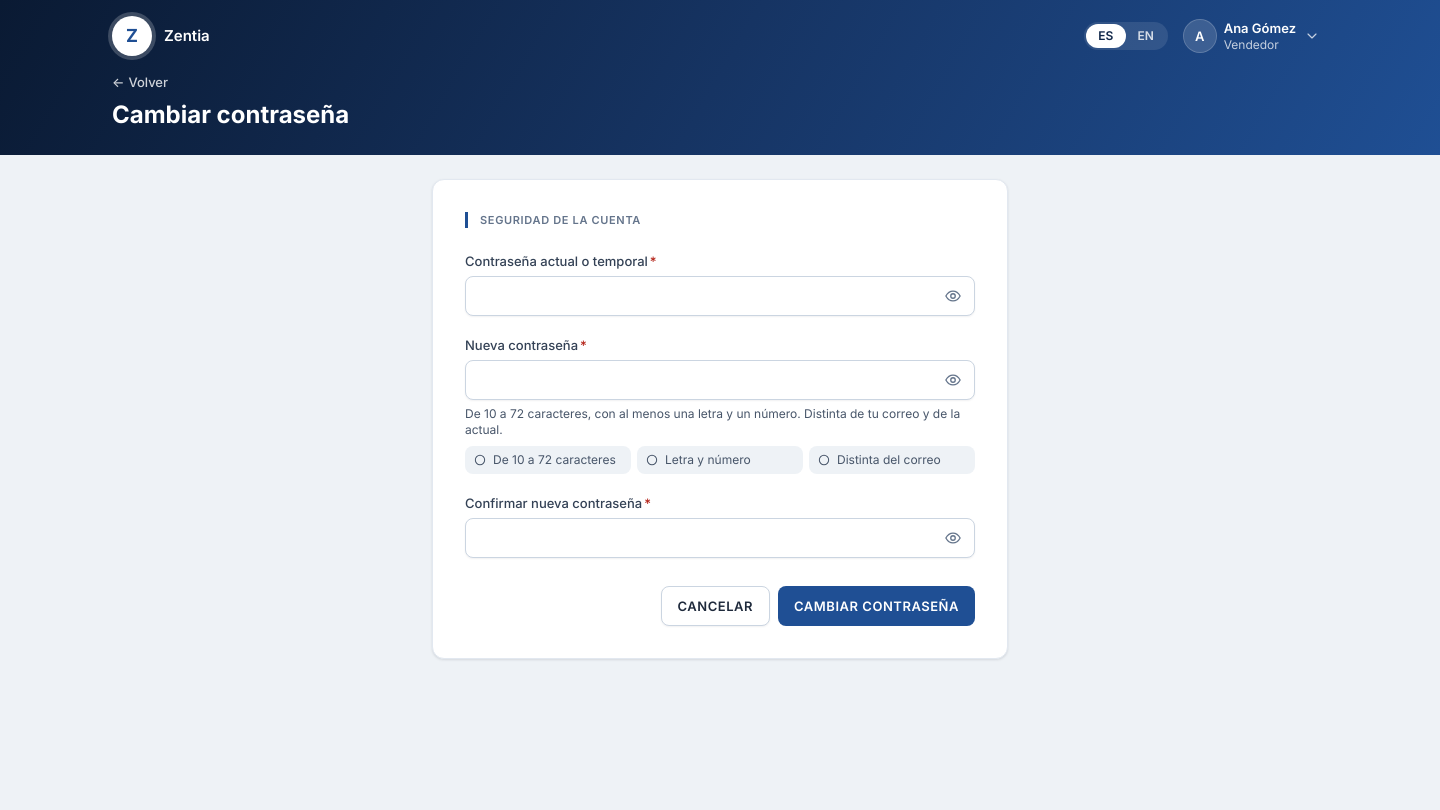
Test case: ChangePasswordPage › validates the policy and the confirmation locally
Type "actual2026x" into the password field labelled "Contraseña actual o temporal*" at (720, 296), box [465,276,975,316]
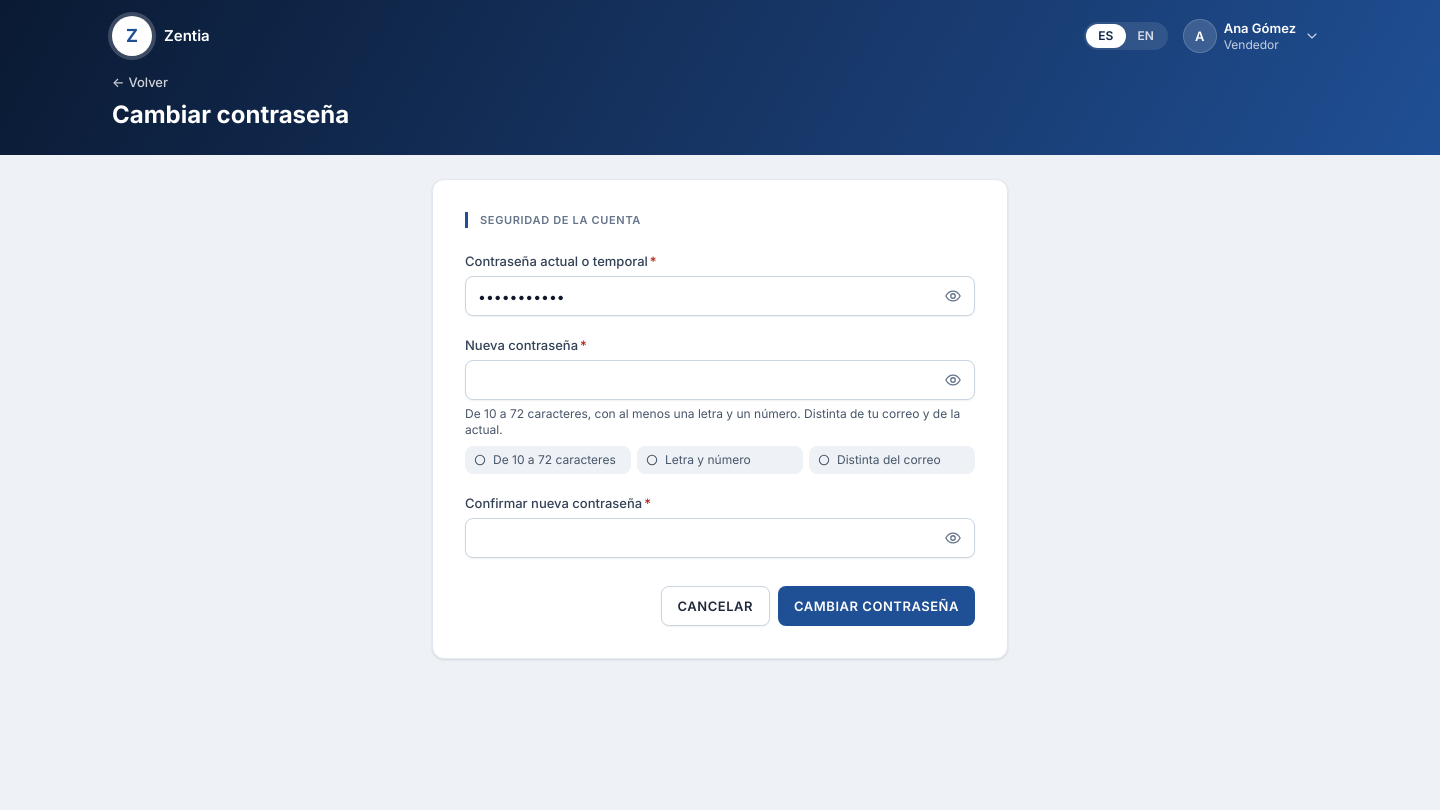
Type "corta" into the password field labelled "Nueva contraseña*" at (720, 380), box [465,360,975,400]
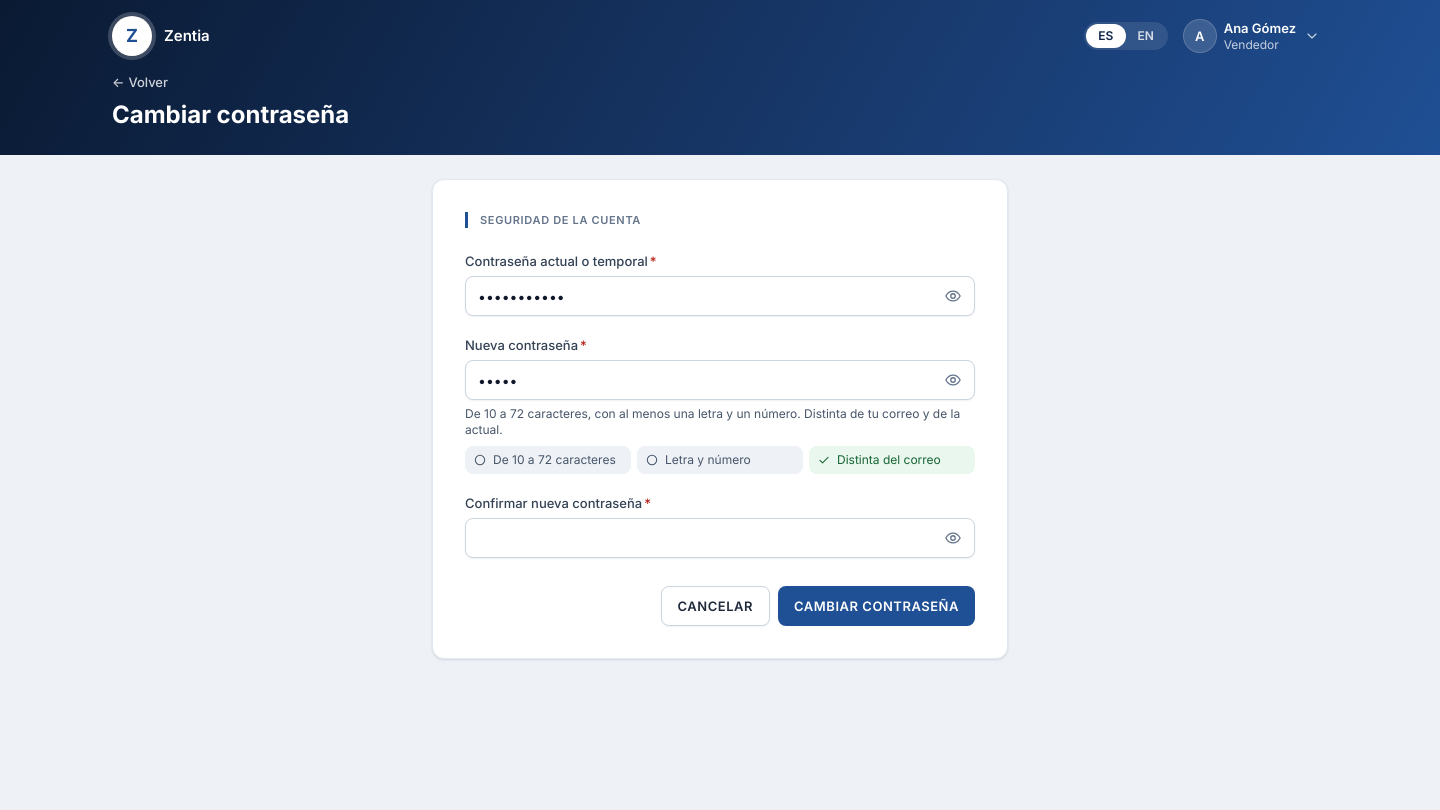
Type "otra" into the password field labelled "Confirmar nueva contraseña*" at (720, 538), box [465,518,975,558]
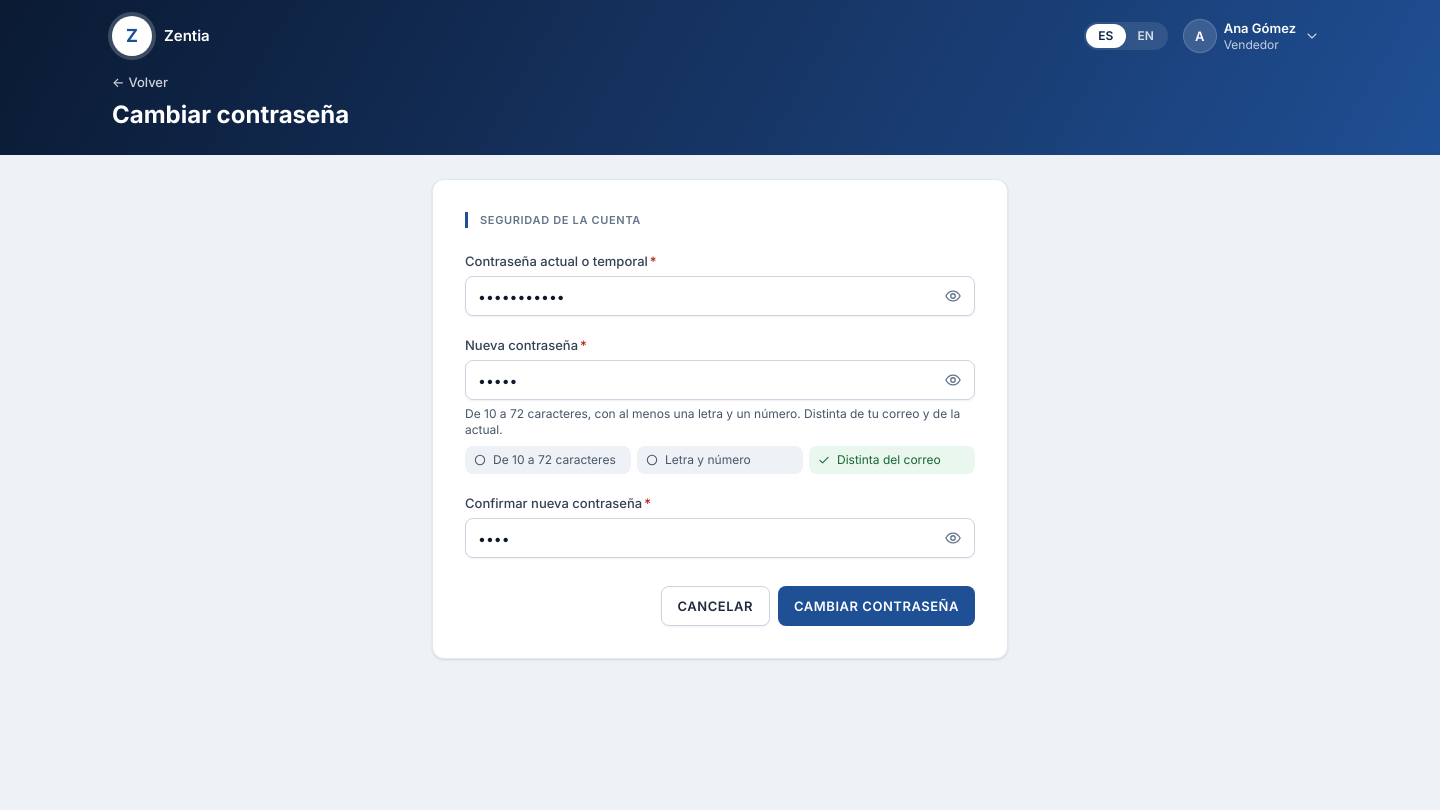
Click the button "Cambiar contraseña" at (877, 606), box [778,586,975,626]
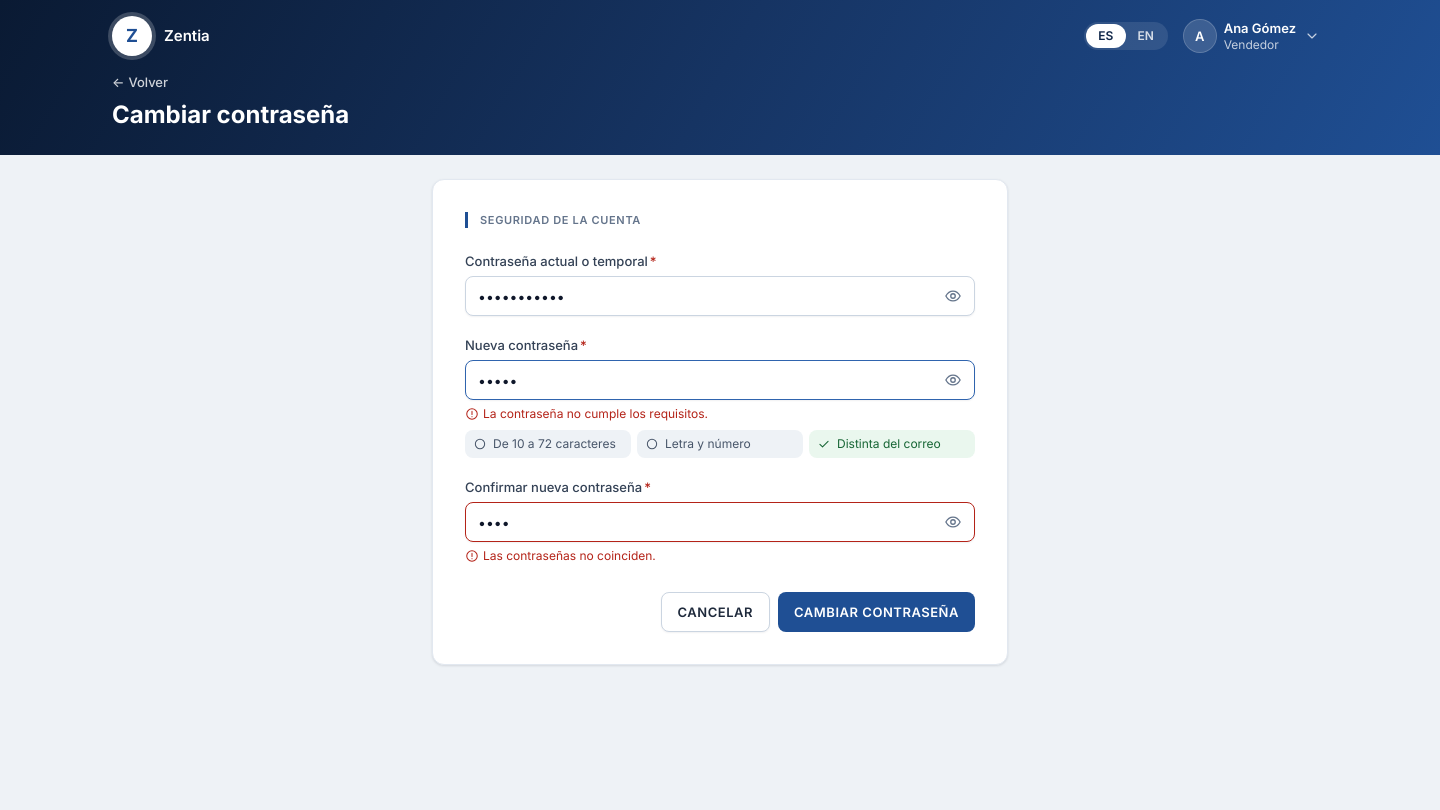
Result: the text "La contraseña no cumple los requisitos." is shown at [465,406,708,421]
Result: the text "Las contraseñas no coinciden." is shown at [465,548,656,563]
